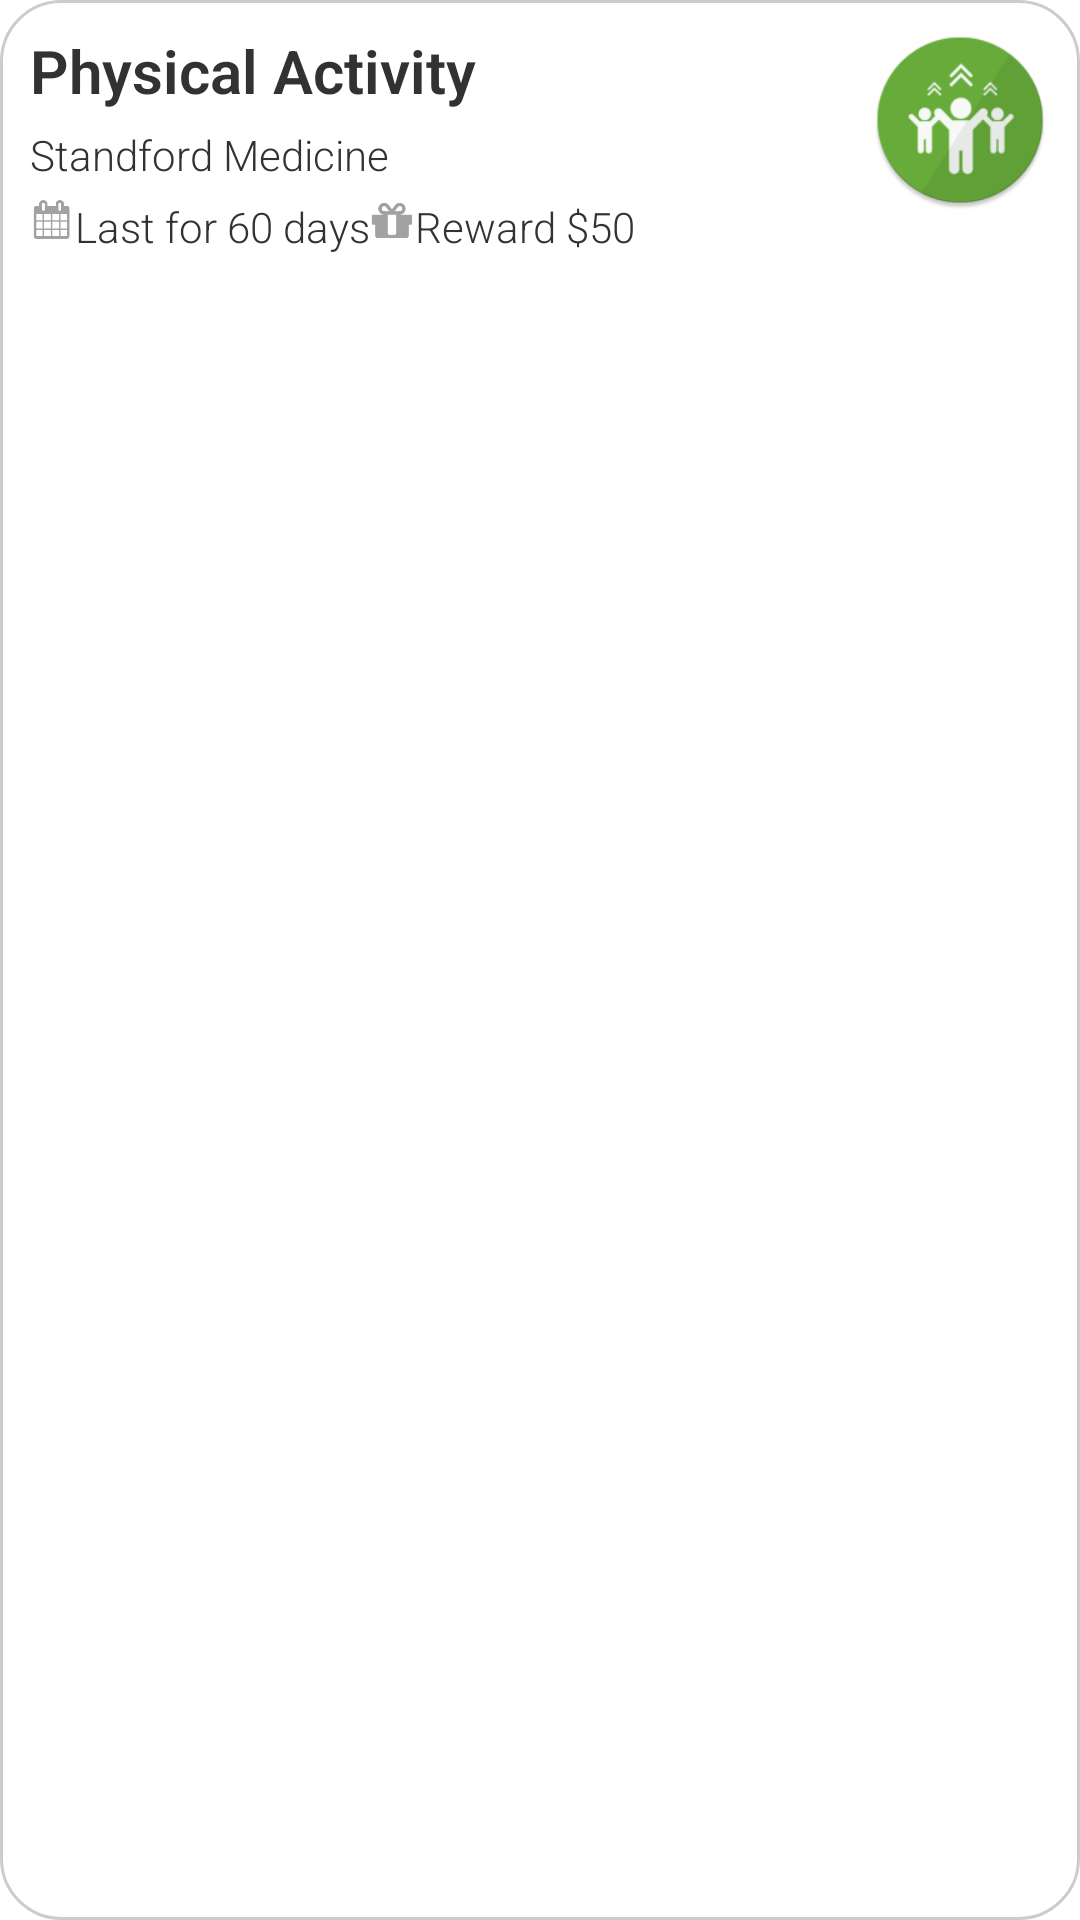

Icons on this 1080*1920 Android screen, each with the point to tap as [x,y]:
box: [392,220]
calendar: [52,219]
